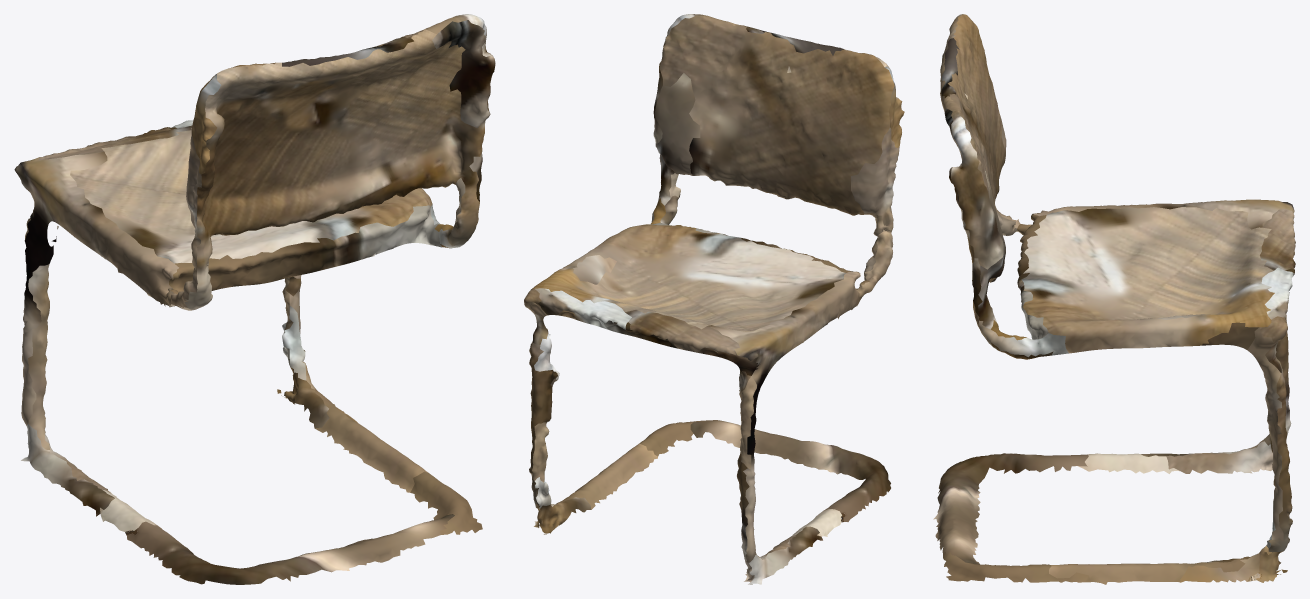
3 views of the same model, side by side, from view 1: azimuth 30°, elevation 25°; view 2: azimuth 150°, elevation 25°; view 3: azimuth 270°, elevation 25° (orthographic). The views are drawn at different scales.
Size of the model in its own units: 0.4879 by 0.8135 by 0.5799.
Materials: 1 (1 with a texture image).
